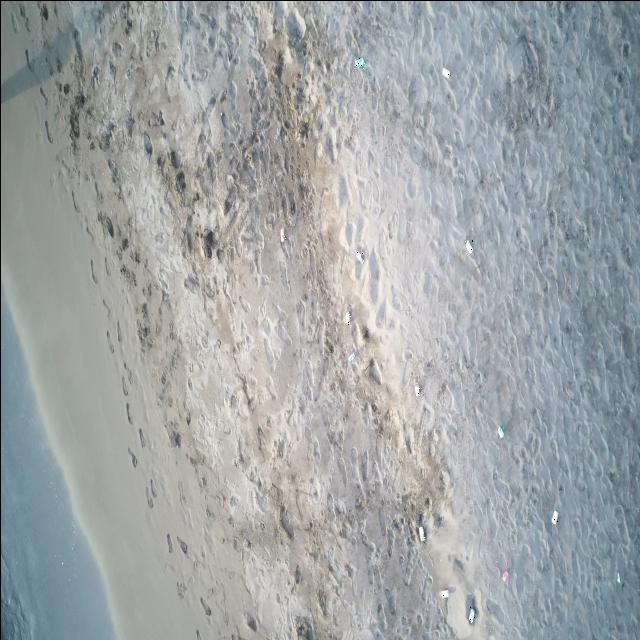Garbage: (467, 606, 475, 624), (500, 568, 508, 583), (417, 526, 424, 542), (496, 424, 504, 437), (464, 240, 472, 252), (355, 251, 363, 263), (347, 350, 355, 362), (344, 311, 351, 324), (413, 382, 420, 395), (355, 56, 363, 67), (280, 227, 286, 241), (552, 510, 557, 524), (440, 588, 447, 597), (442, 67, 448, 77), (616, 572, 620, 583)
